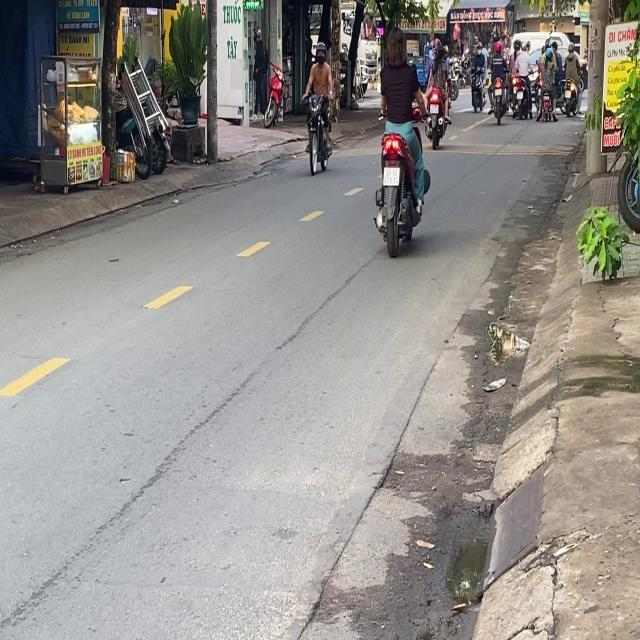helmet: (314, 40, 326, 63)
licenseplate: (372, 20, 430, 254), (301, 40, 335, 174)
motorcyclist: (386, 27, 408, 65)
nohelmet: (383, 166, 399, 185)
